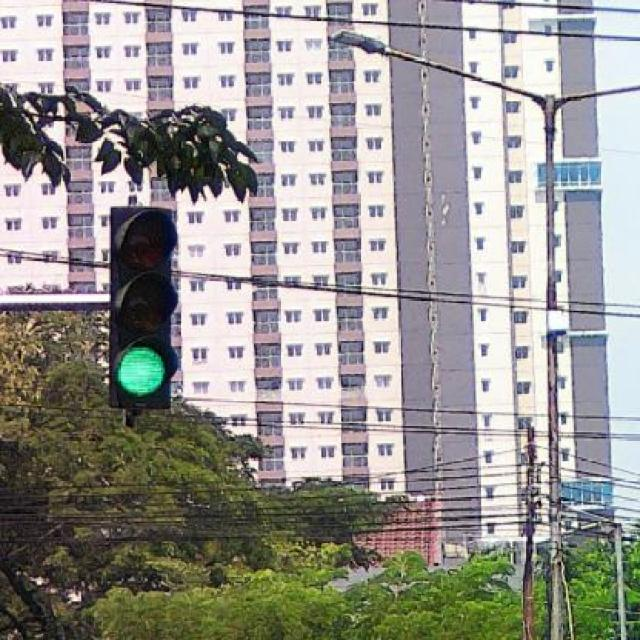green light: (102, 195, 186, 410)
